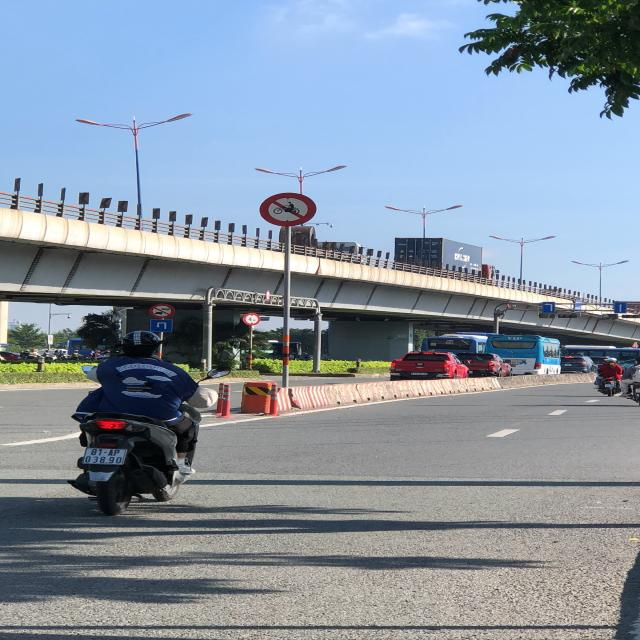Bien bao cam xe may: (253, 189, 318, 228)
